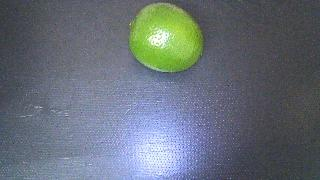EXPORTACION: (129, 3, 204, 72)
